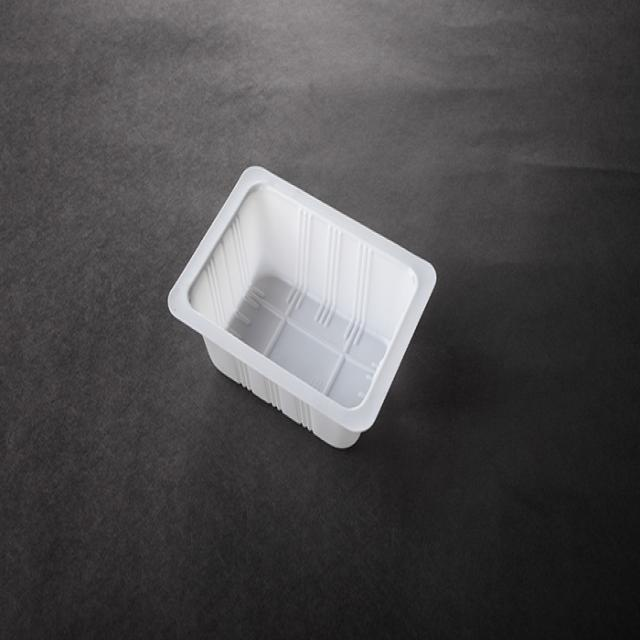plastic: (166, 164, 440, 456)
